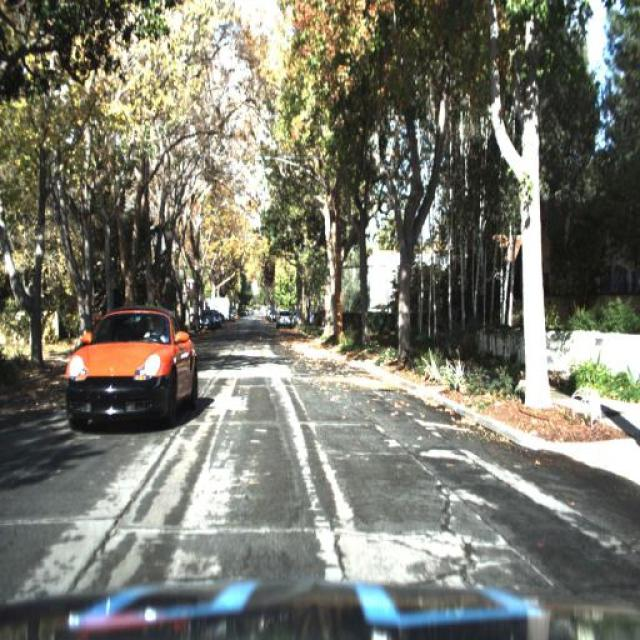car: (54, 300, 208, 440), (273, 303, 292, 336)
